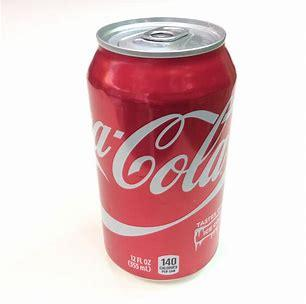metal: (88, 18, 237, 280)
